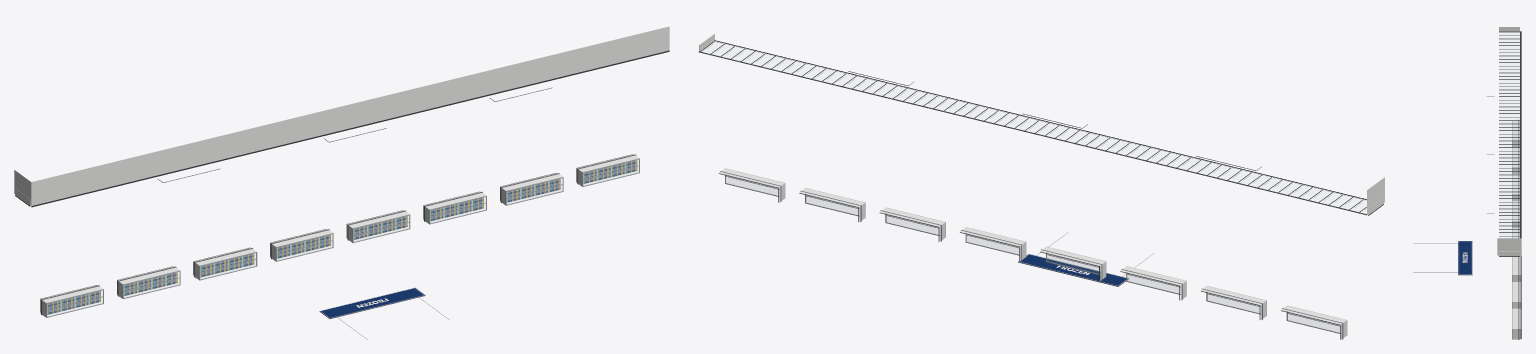
File: back_dairy.gltf
3 views of the same model, side by side, from view 1: azimuth 30°, elevation 25°; view 2: azimuth 150°, elevation 25°; view 3: azimuth 270°, elevation 25° (orthographic). The views are drawn at different scales.
Visible parts, largest first — view 1: back_dairy; view 2: back_dairy; view 3: back_dairy.
Boxes of the visible parts, bbox=[...] form: back_dairy: bbox=[14, 26, 669, 339]; back_dairy: bbox=[698, 33, 1384, 339]; back_dairy: bbox=[1413, 27, 1521, 339].
Size of the model in its own units: 50.05 by 13.72 by 10.2.
Materials: 12 (6 with a texture image).
